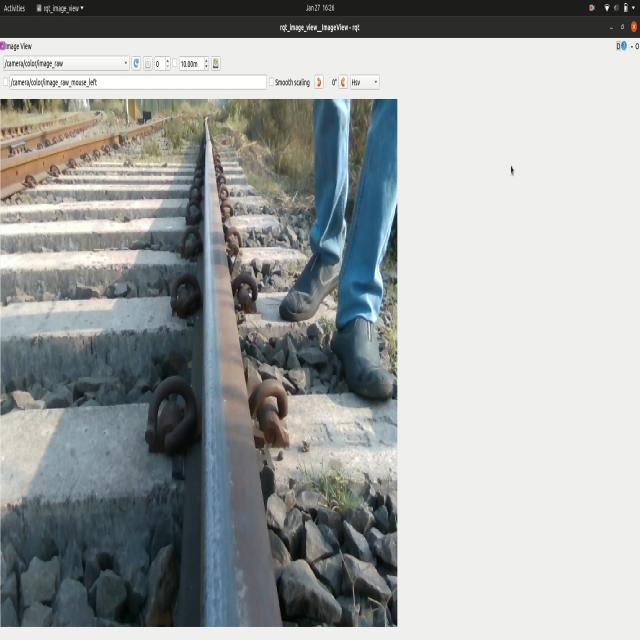underrailed: (252, 368, 324, 489)
